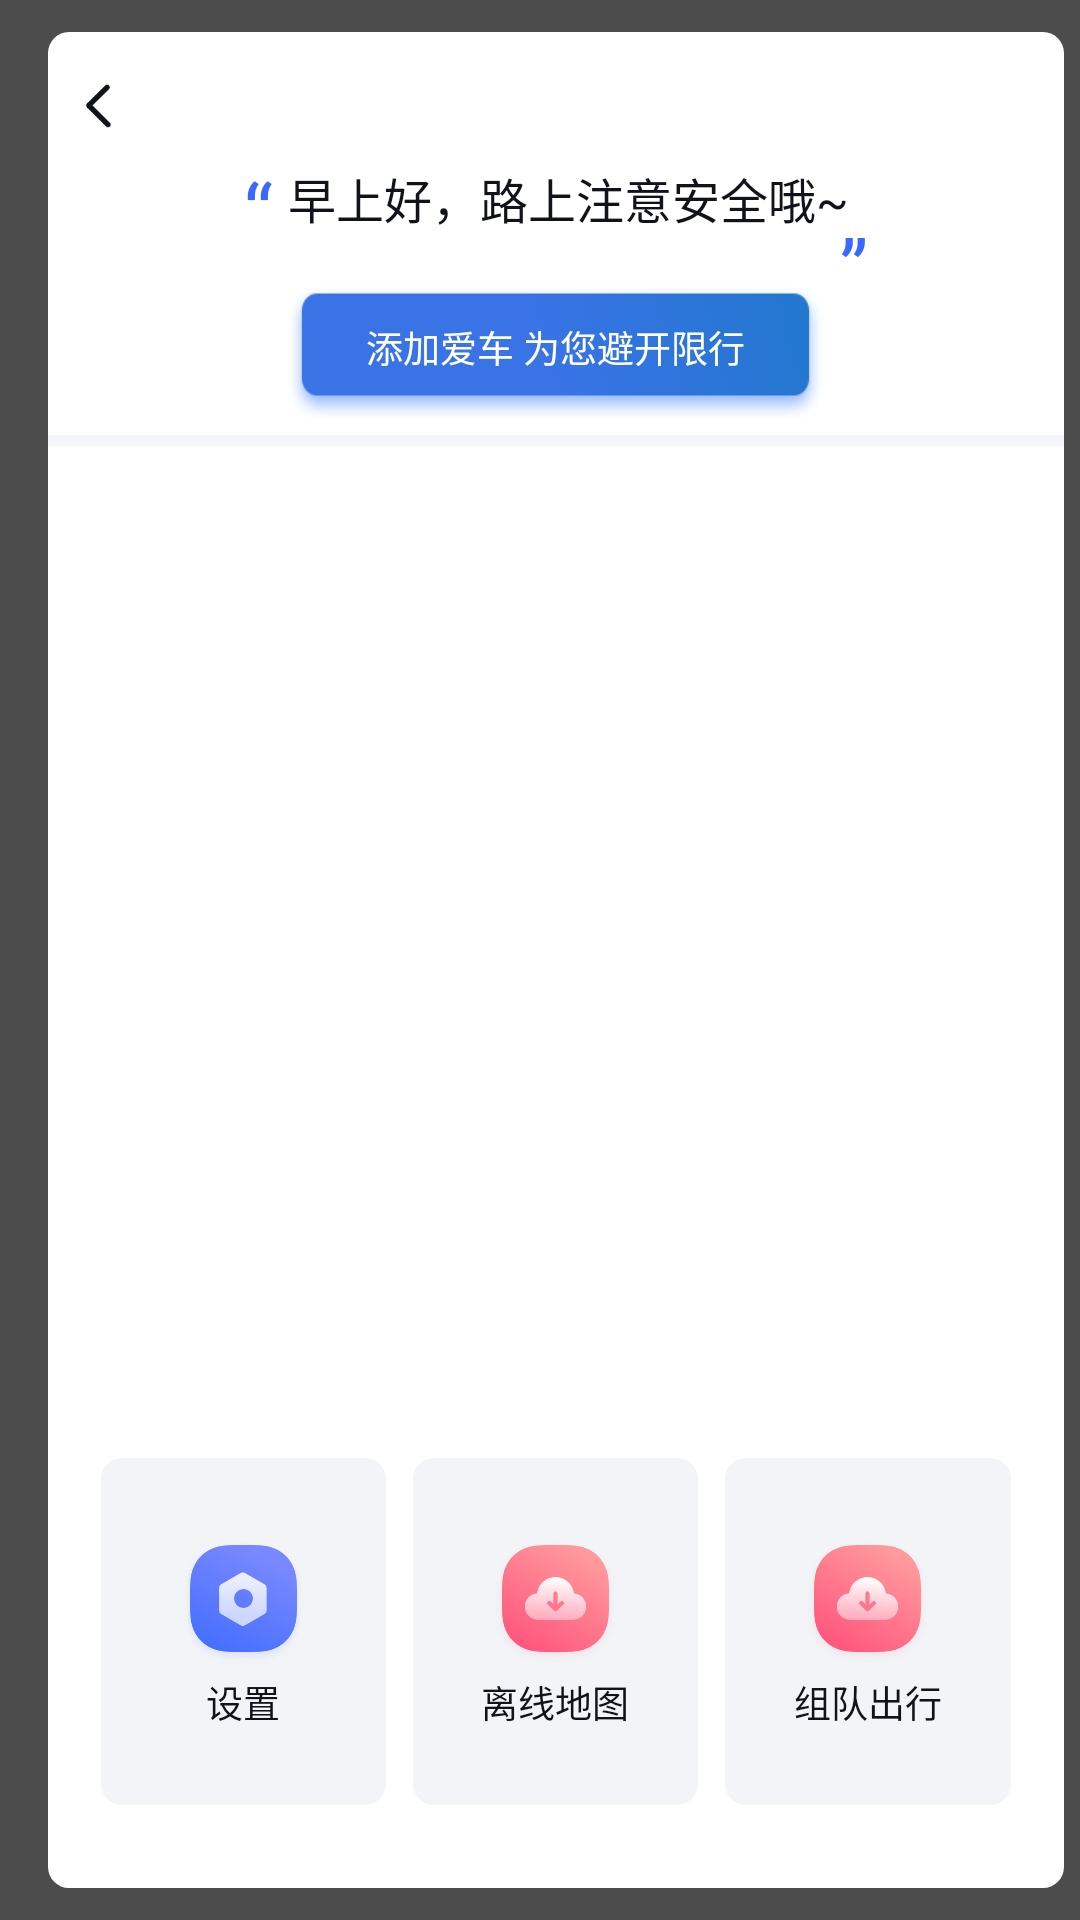

Icon click points for this 1080 × 1920 phone screenshot, format (x=x, y=y):
back: (x=98, y=106)
